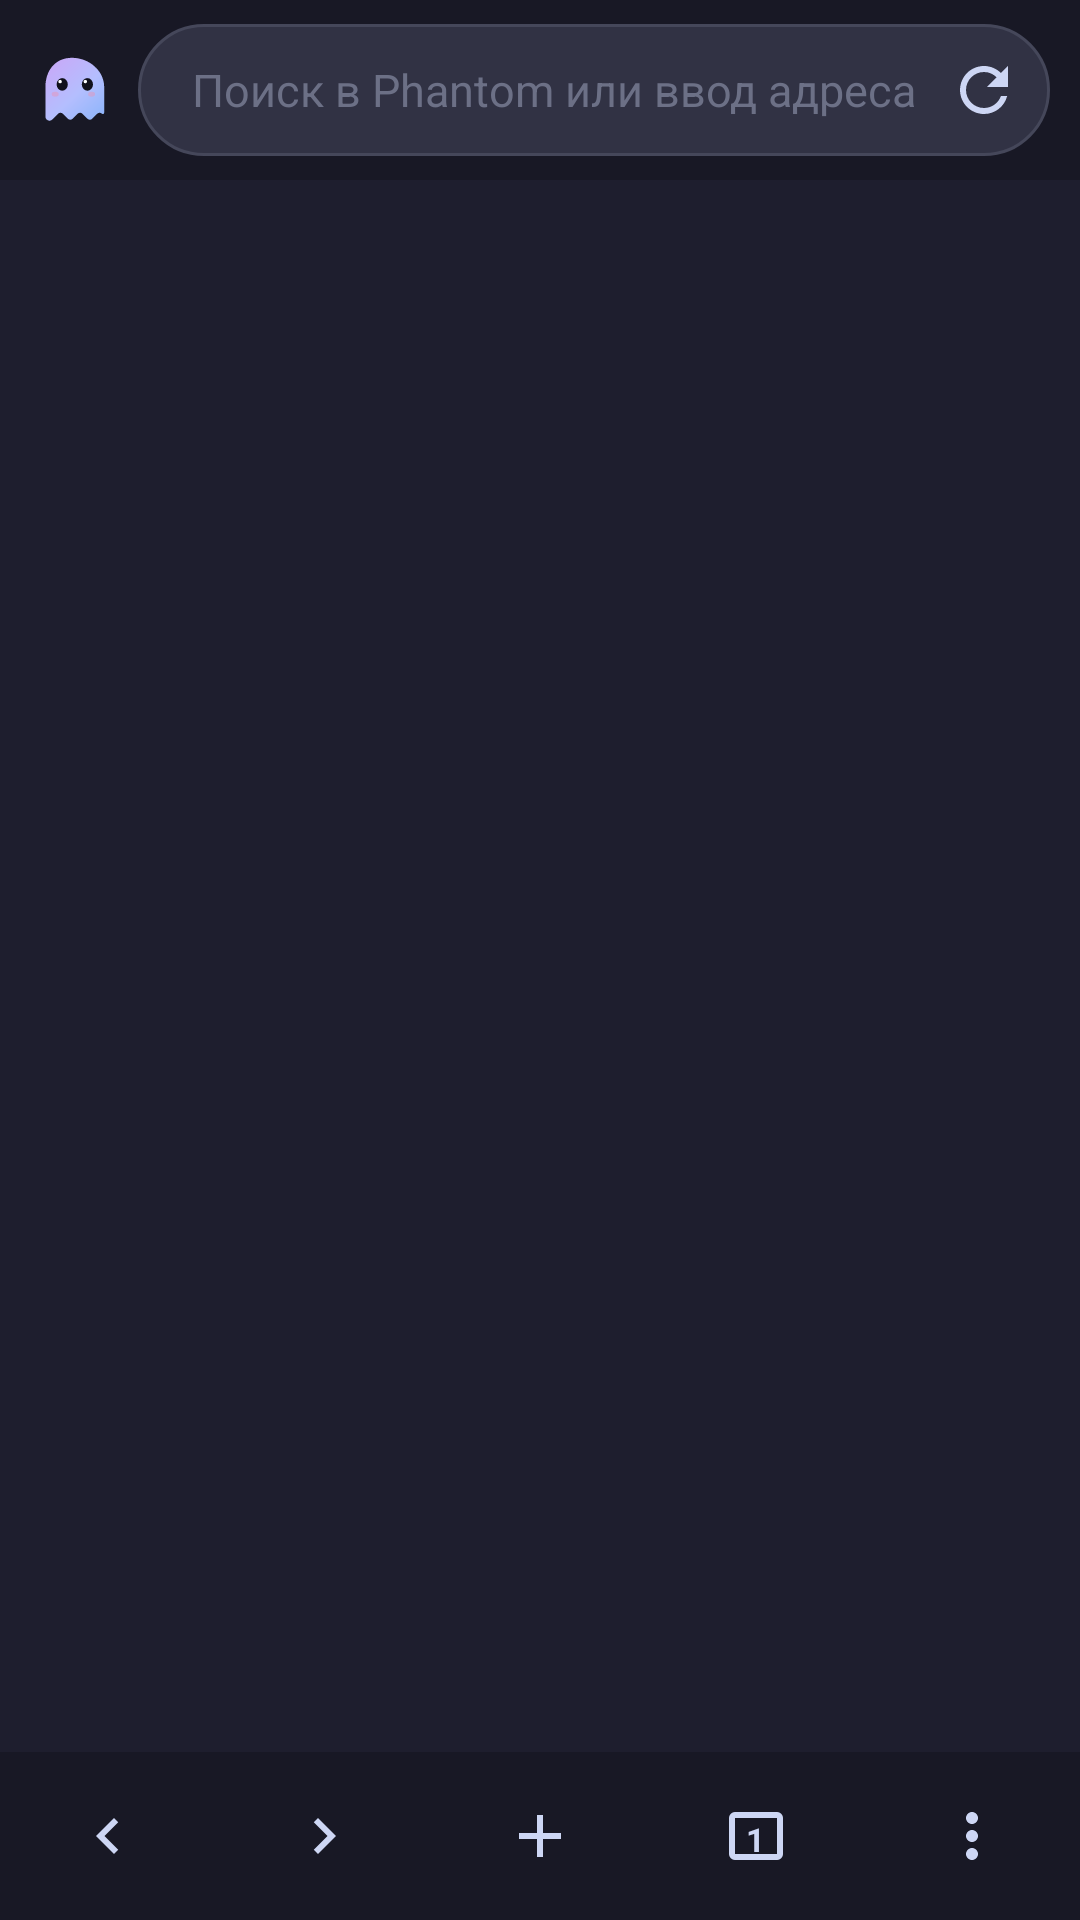

Named icons in this screenshot (1080 × 1920) and their centers, [x,y]:
Вкладки: [756,1836]
Вперёд: [325,1836]
Меню: [972,1836]
Назад: [107,1836]
Новая вкладка: [540,1836]
Обновить: [984,90]
